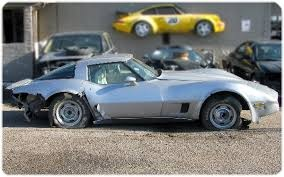Dent: (4, 85, 105, 128)
